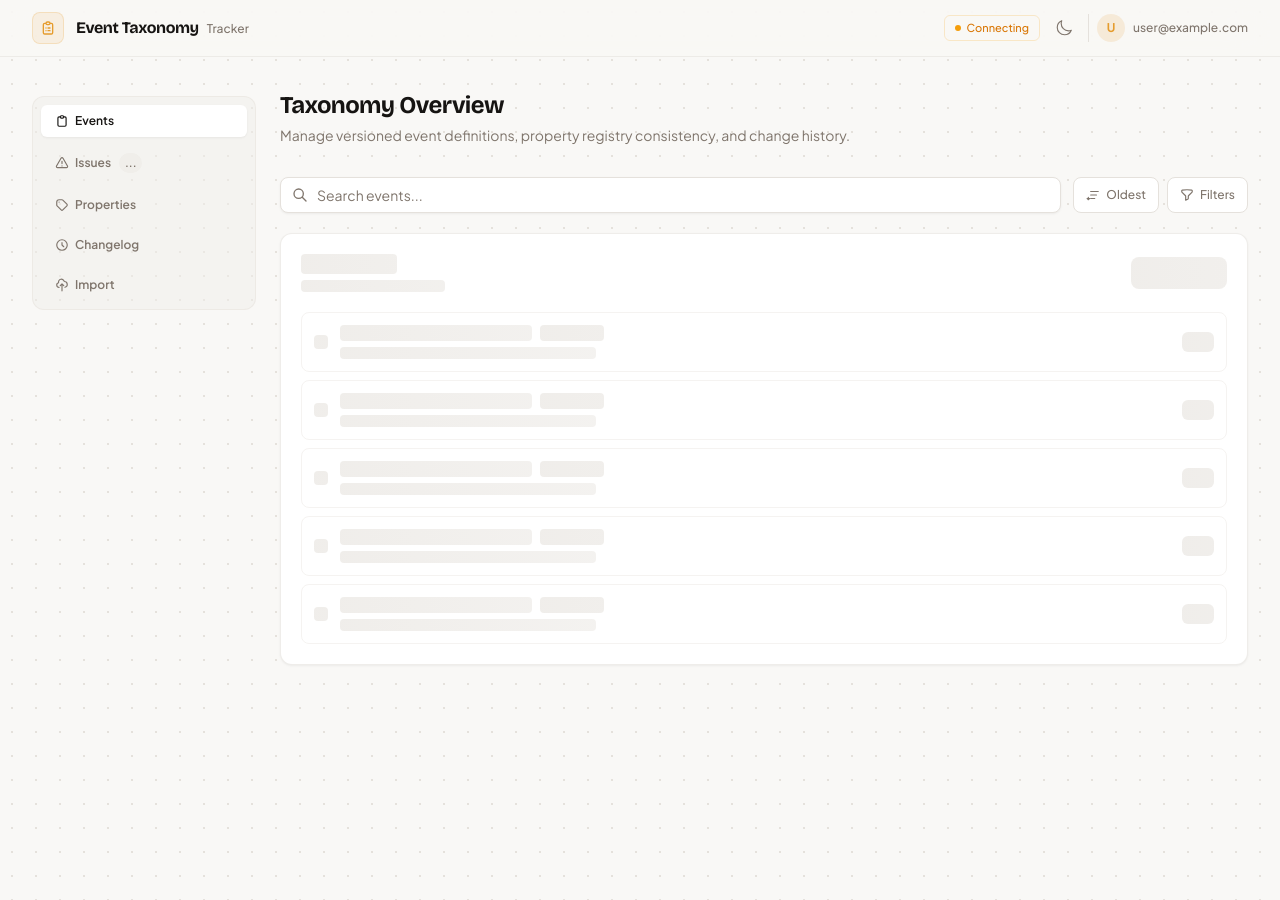
Test: App › shows a toast when date range is invalid
Click the Filters button in App.tsx to expand the FilterBar
Click the button "Filters" at (1208, 195), box [1167,177,1248,213]
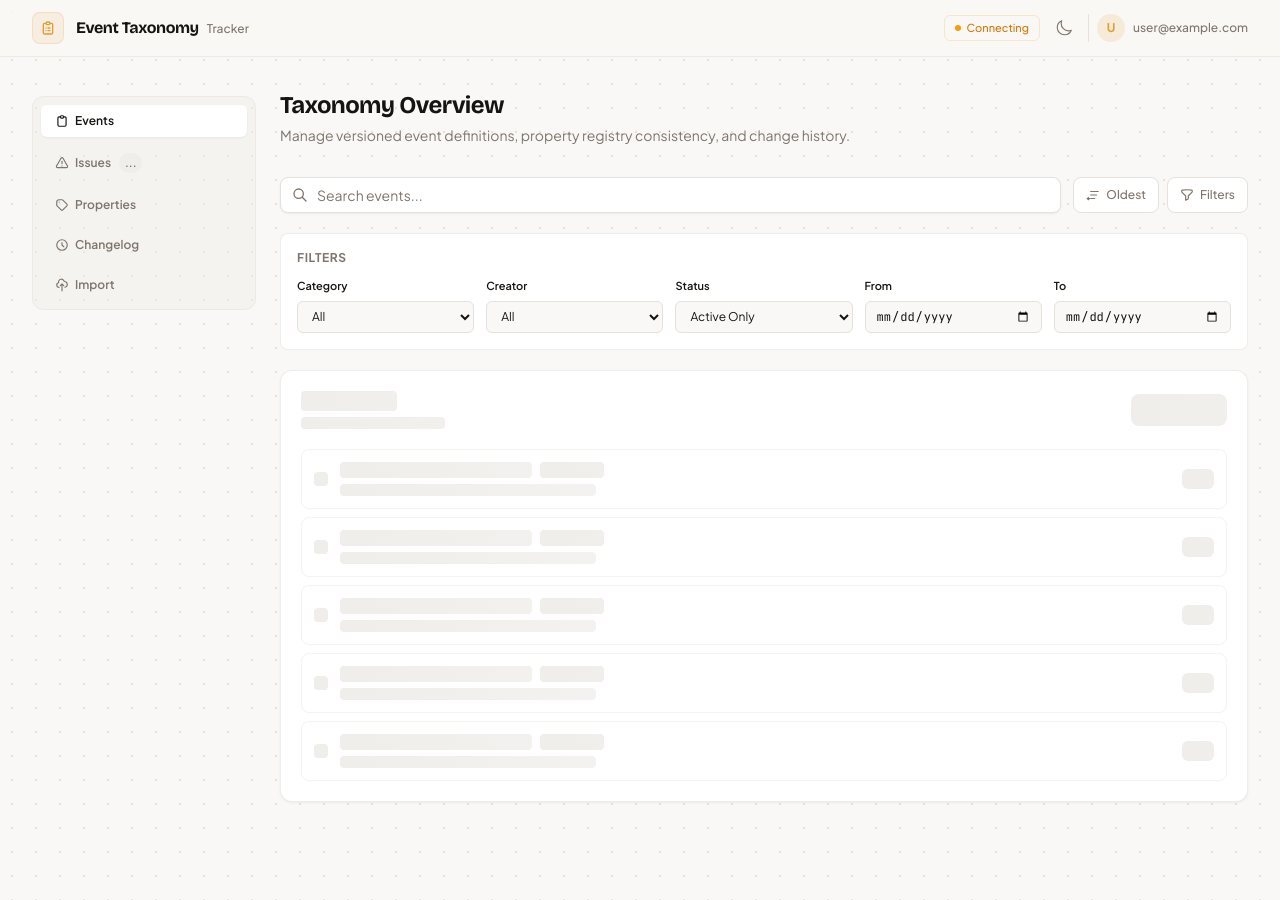
Type "2024-12-31" into the date field labelled "From" at (953, 316), box [865,300,1042,332]
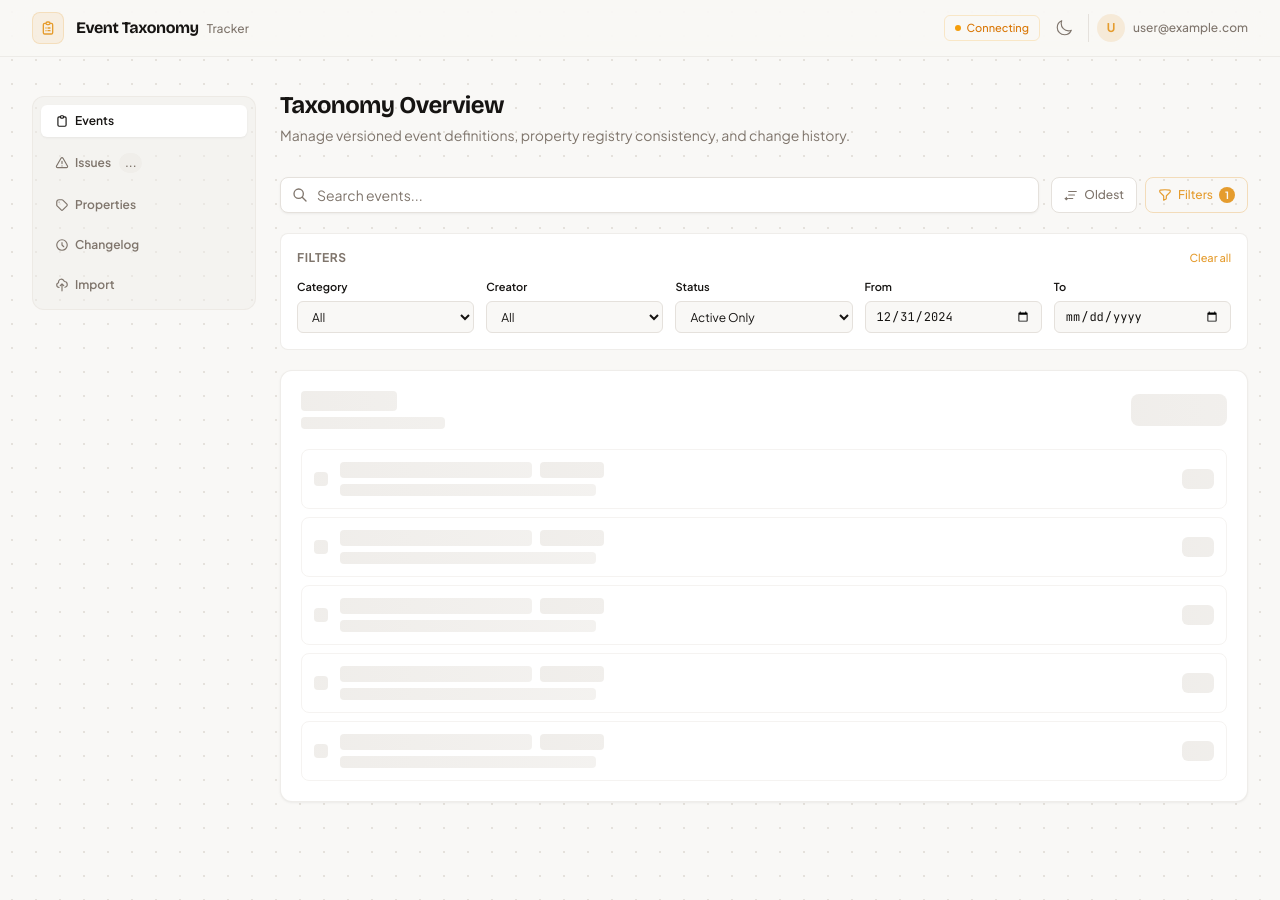
Type "2024-01-01" into the date field labelled "To" at (1142, 317), box [1054,301,1231,333]
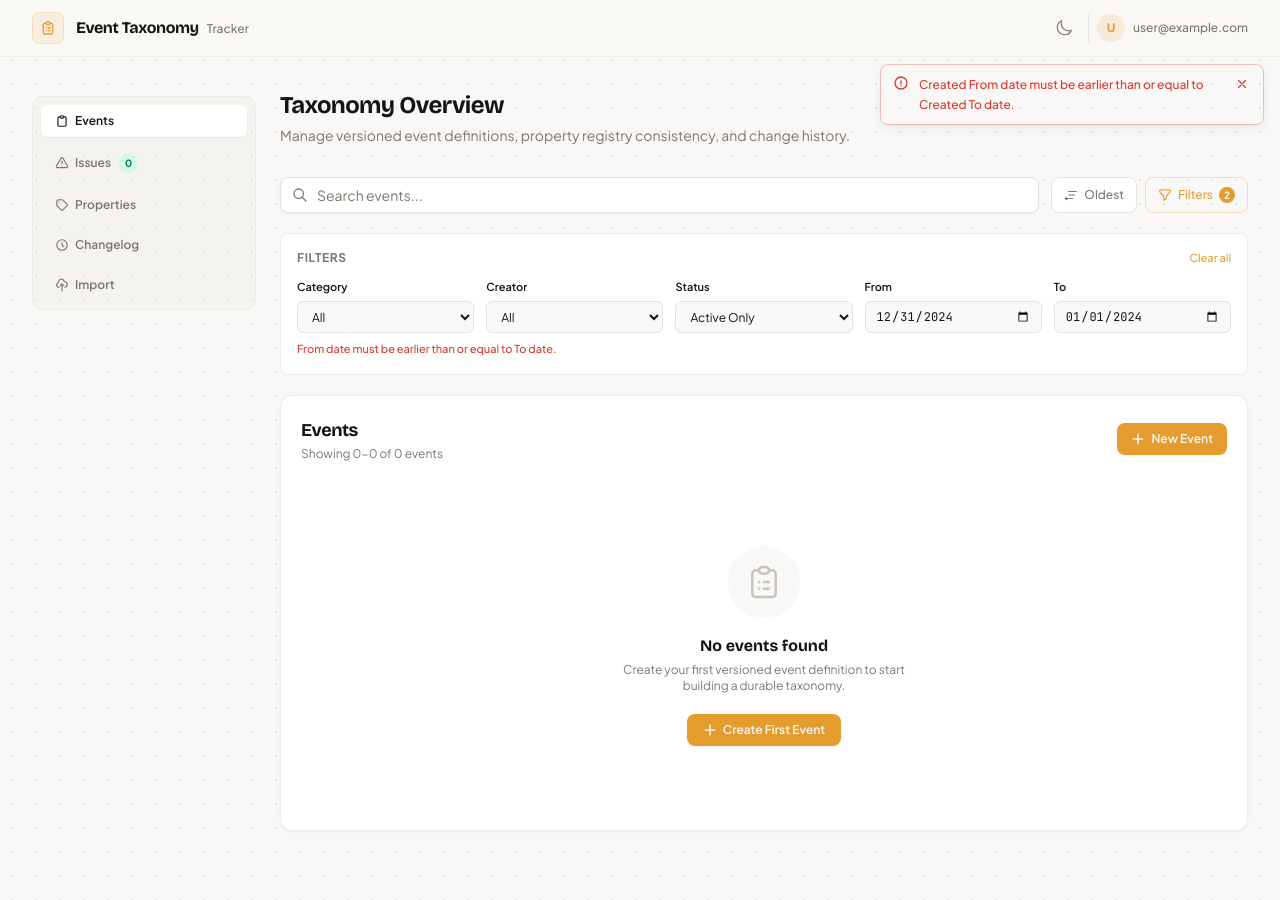
Check: the text "Created From date must be earlier than or equal to Created To date." is shown, box [919,75,1223,114]
